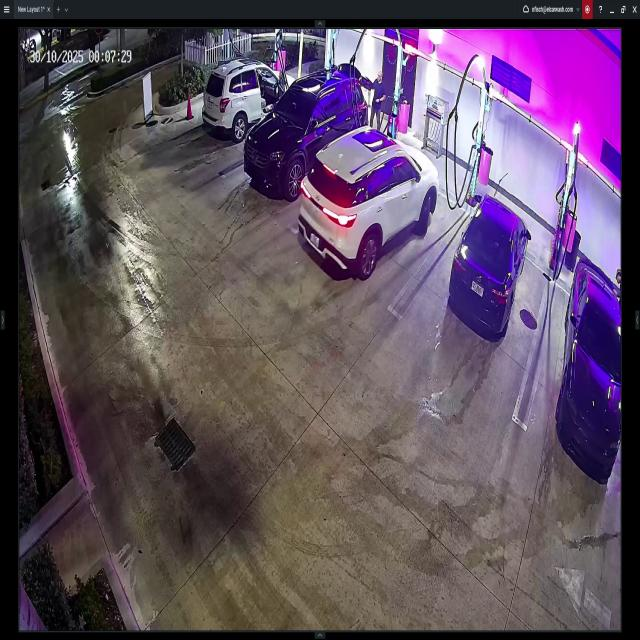Car: (299, 126, 439, 281), (245, 63, 368, 194), (554, 253, 622, 478), (449, 195, 531, 336), (203, 56, 297, 137)
